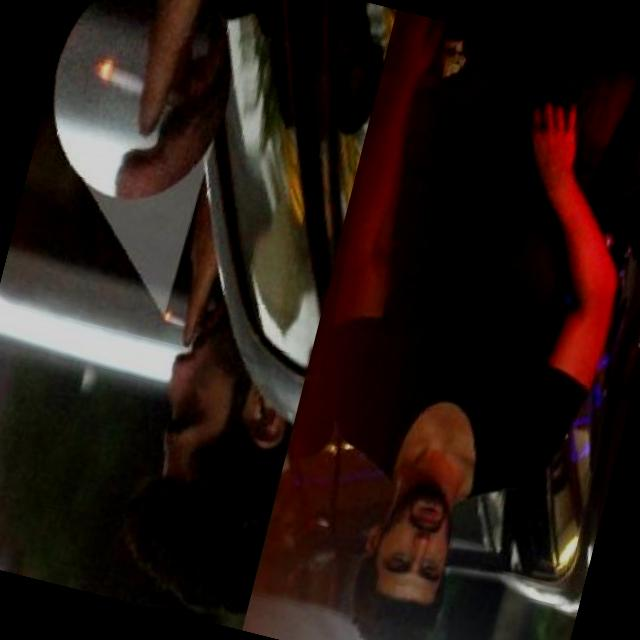cigarette: (89, 53, 196, 116), (156, 306, 216, 342)
